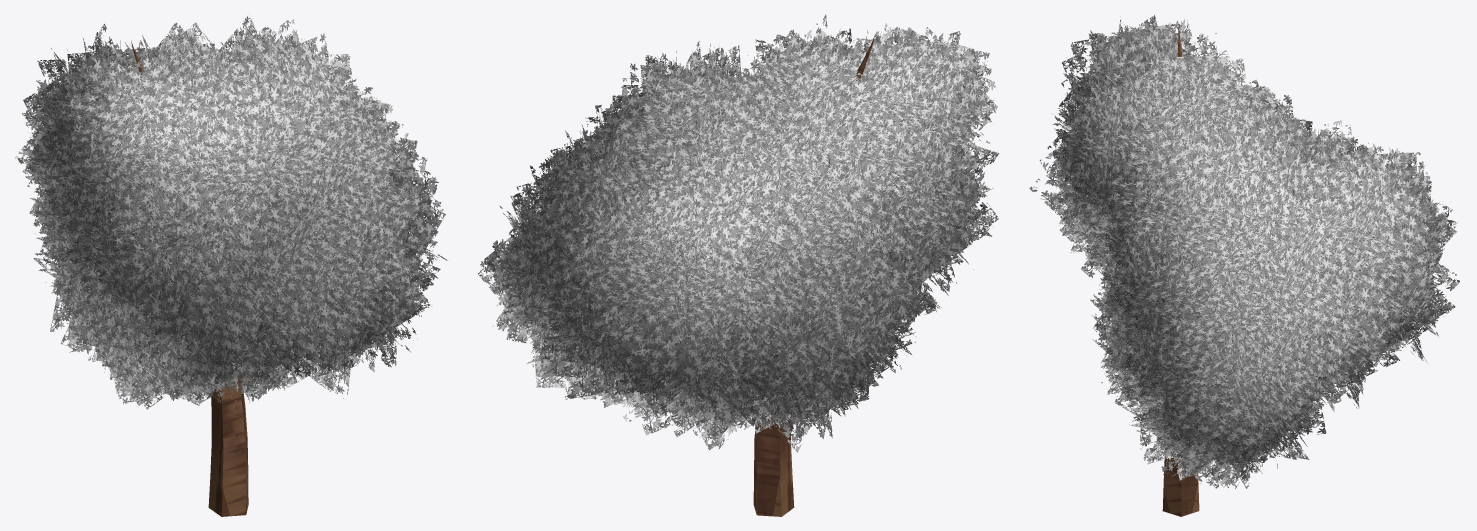
File: M_Tree6_CO.fbx
3 renders of one model, left to right at view 1: azimuth 30°, elevation 25°; view 2: azimuth 150°, elevation 25°; view 3: azimuth 270°, elevation 25°, orthographic. The views are drawn at different scales.
Parts seen in each view (by area): view 1: quick_basic_tree1; view 2: quick_basic_tree1; view 3: quick_basic_tree1.
Boxes of the visible parts, x1,y1,x2,y2 form: quick_basic_tree1: (15, 14, 447, 516); quick_basic_tree1: (478, 14, 998, 516); quick_basic_tree1: (1029, 15, 1459, 516).
Bounding box in the file's own units: 10.06 × 11.02 × 9.78.
